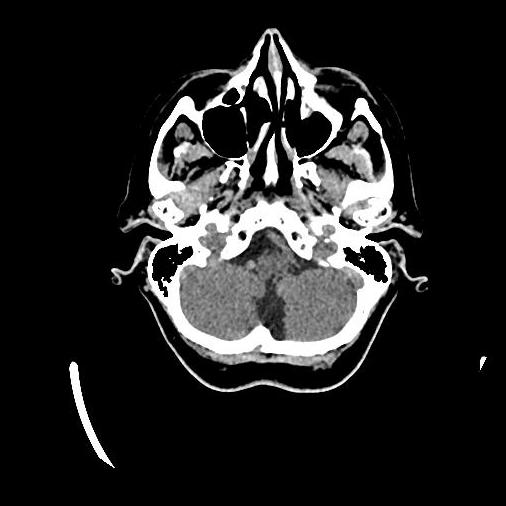Normal_Brain: (109, 23, 436, 402)
